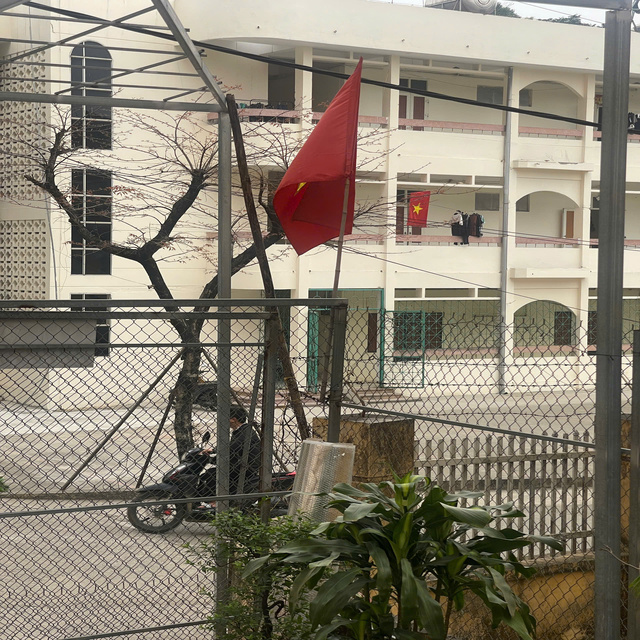laco: (265, 55, 389, 253)
